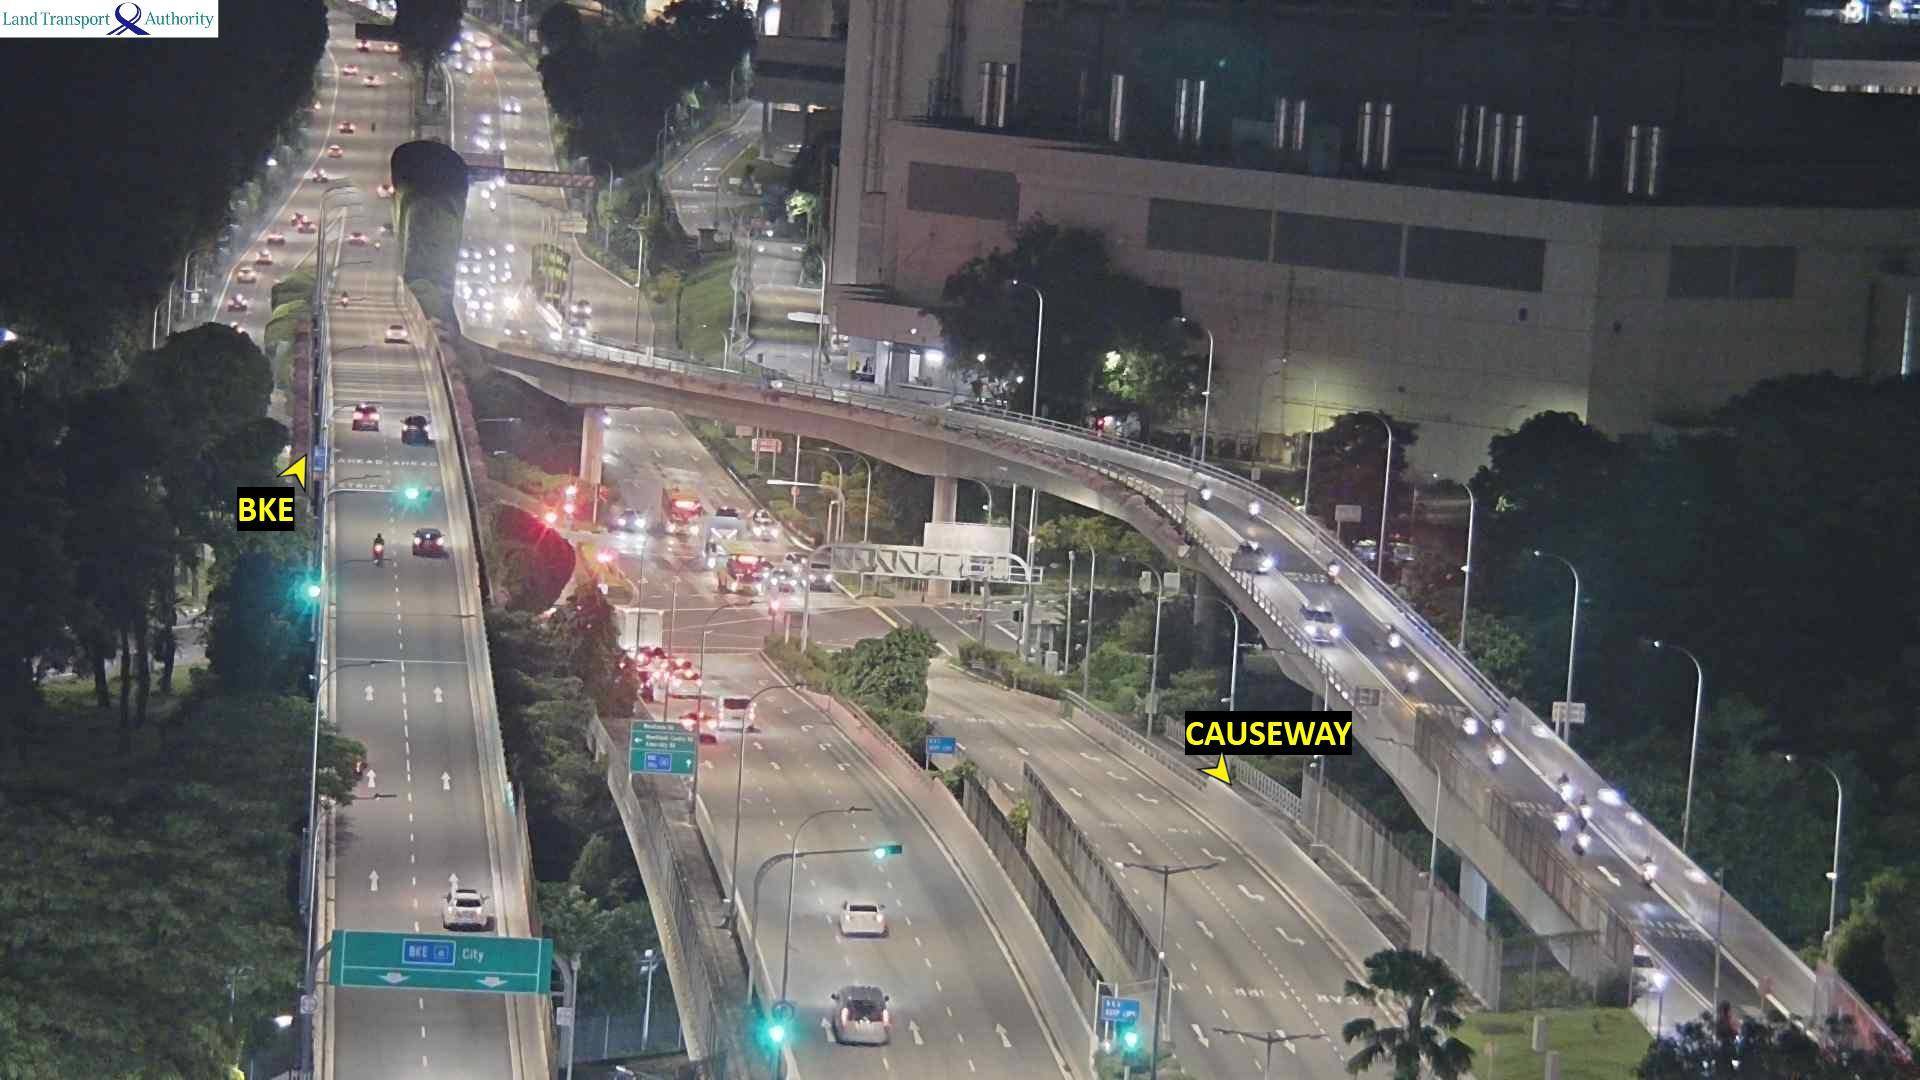vehicle-causeway-johor: (1234, 542, 1276, 590), (1294, 603, 1345, 641), (699, 518, 743, 558), (720, 548, 764, 588), (1633, 952, 1667, 995), (665, 490, 692, 529), (773, 568, 807, 596), (458, 267, 488, 294), (753, 513, 776, 543), (487, 239, 518, 261), (462, 293, 491, 311), (808, 559, 827, 585), (504, 321, 531, 339), (495, 261, 515, 283), (1487, 742, 1503, 769), (1460, 710, 1475, 737), (1638, 860, 1653, 885), (463, 244, 483, 262), (1580, 797, 1592, 825), (1576, 834, 1590, 858), (1249, 493, 1261, 521), (1555, 772, 1570, 794), (1198, 479, 1212, 502), (1327, 560, 1338, 585), (1491, 714, 1504, 735), (471, 310, 493, 322), (1555, 811, 1565, 837), (765, 372, 779, 390)
vehicle-causeway-singapore: (831, 981, 885, 1045), (619, 608, 665, 652), (838, 899, 885, 938), (835, 988, 884, 1023), (445, 889, 483, 928), (443, 905, 496, 931), (720, 699, 757, 734), (711, 721, 759, 741), (415, 529, 447, 557), (350, 405, 373, 432), (405, 417, 425, 440), (374, 534, 384, 566), (388, 325, 407, 341), (341, 124, 352, 135), (343, 287, 349, 306), (343, 67, 353, 76), (366, 77, 374, 88)
